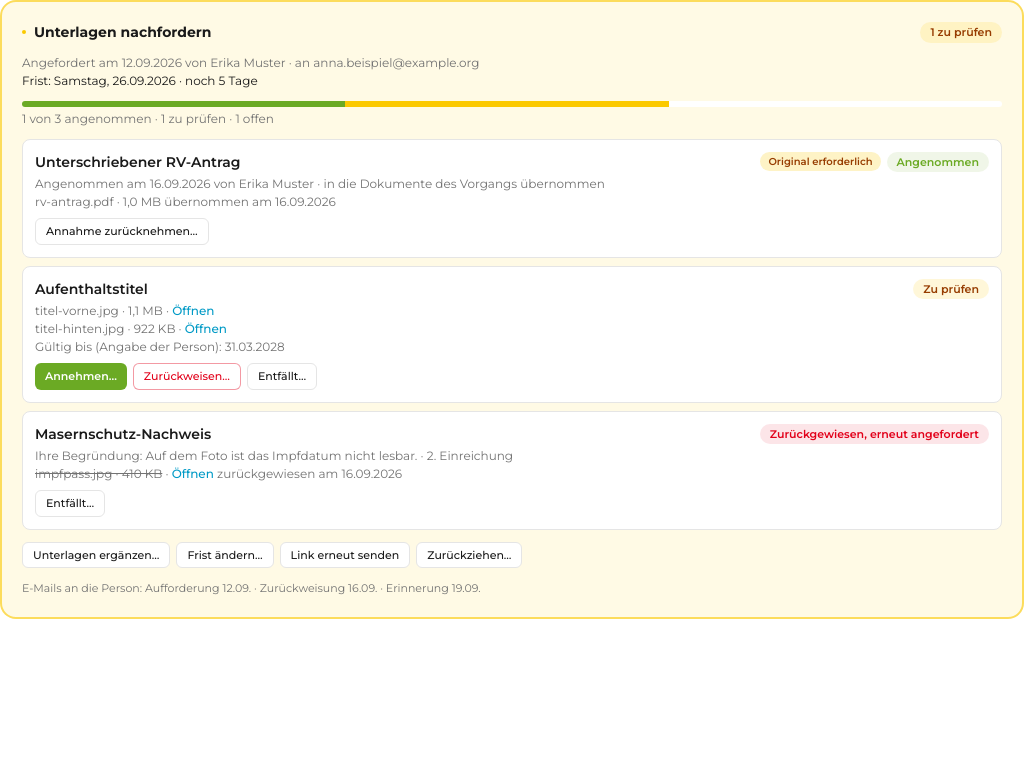
Aktionen ausführen › ein Fehler aus dem Dialog bleibt im Dialog, neu geladen wird trotzdem
The image size is (1024, 768).
Click the button with aria-label "Annehmen – Aufenthaltstitel".
click(81, 376)  # box [35,363,127,390]
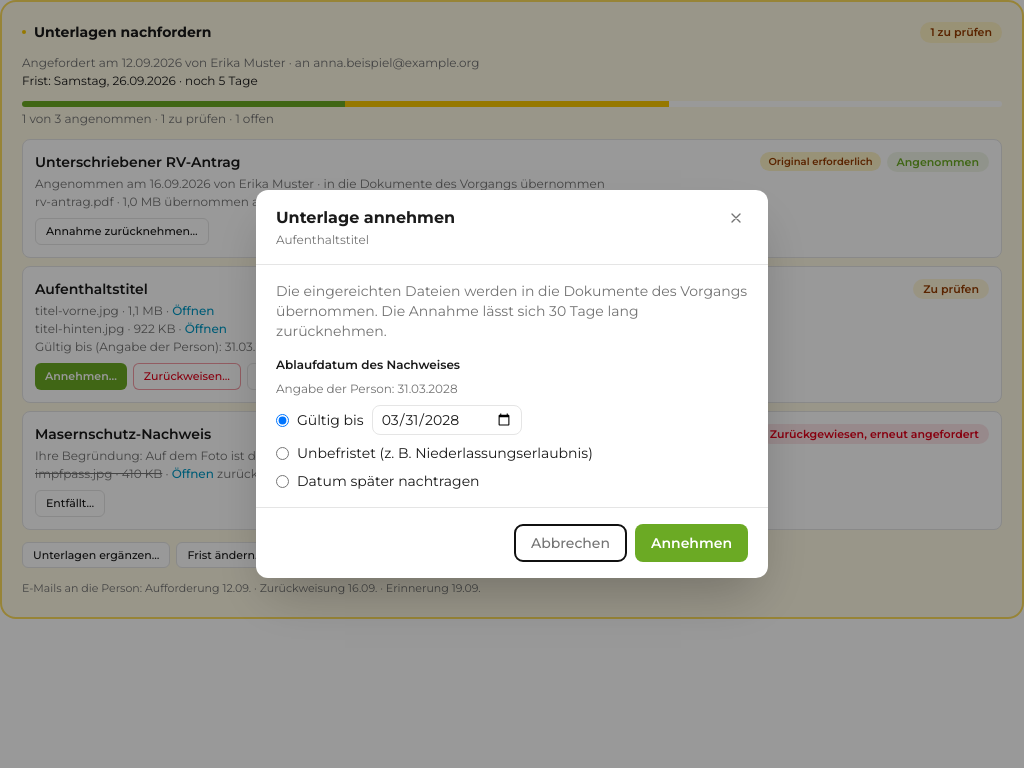
Click the button "Annehmen".
click(692, 543)  # box [635,524,748,562]
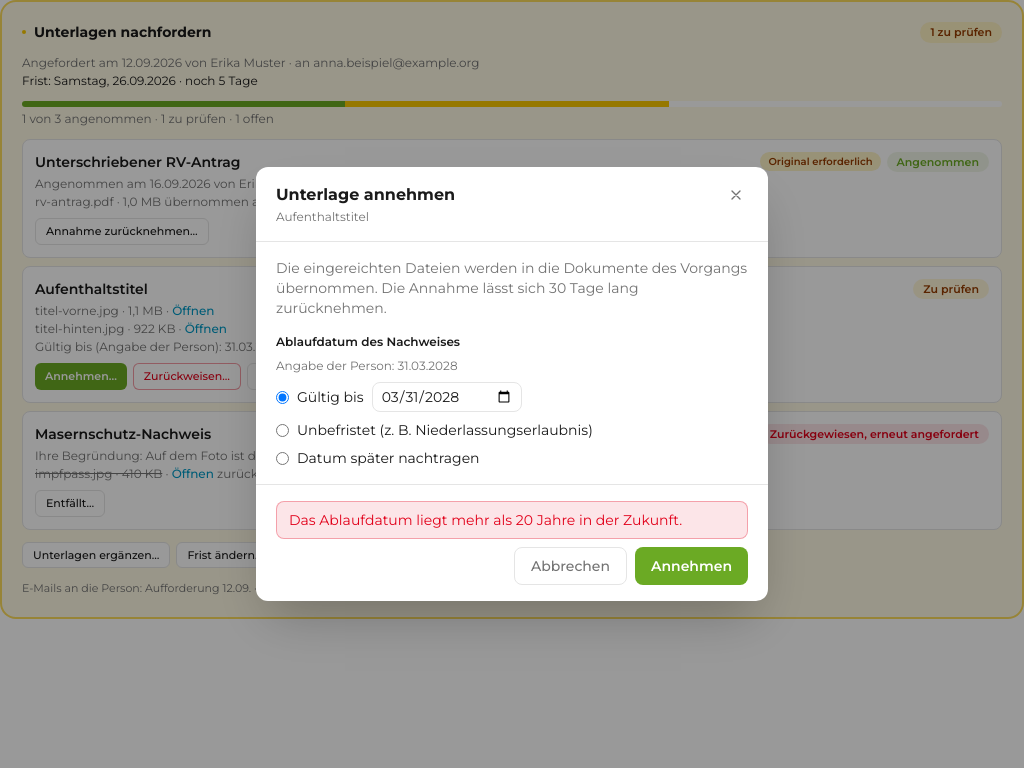
expect the dialog is shown: met
expect the message reads "Das Ablaufdatum liegt mehr als 20 Jahre in der Zukunft.": met, box [289,511,682,529]
